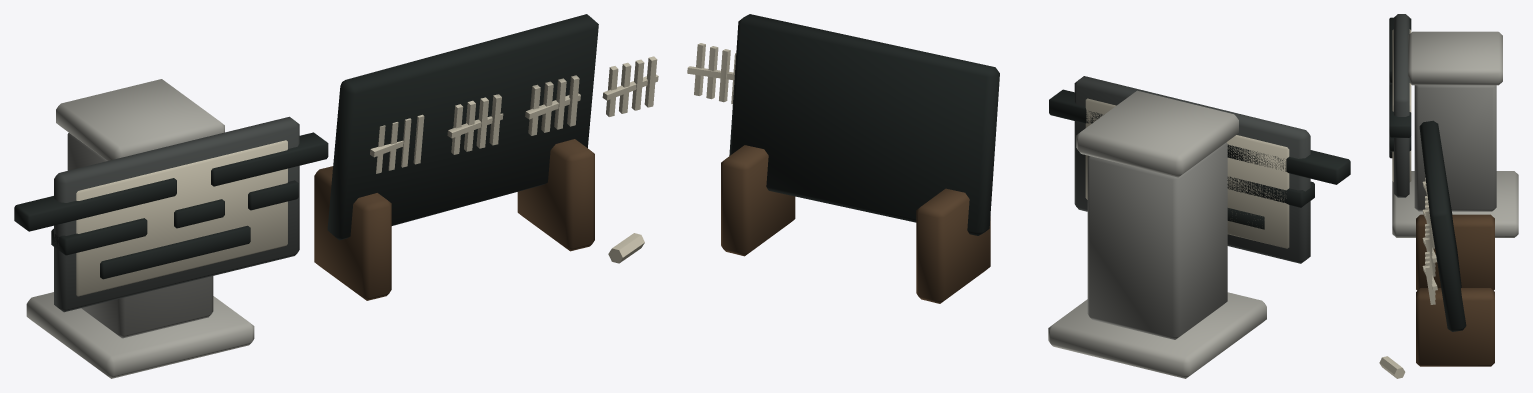
The model's file is stencil_post_a.glb.
3 views of the same model, side by side, from view 1: azimuth 30°, elevation 25°; view 2: azimuth 150°, elevation 25°; view 3: azimuth 270°, elevation 25° (orthographic). The views are drawn at different scales.
Visible parts, largest first — view 1: Surface; view 2: Surface; view 3: Surface.
Boxes of the visible parts, x1,y1,x2,y2 form: Surface: [14, 14, 658, 378]; Surface: [687, 14, 1350, 378]; Surface: [1379, 14, 1518, 378].
Bounding box in the file's own units: 5.36 × 1.71 × 1.32.
